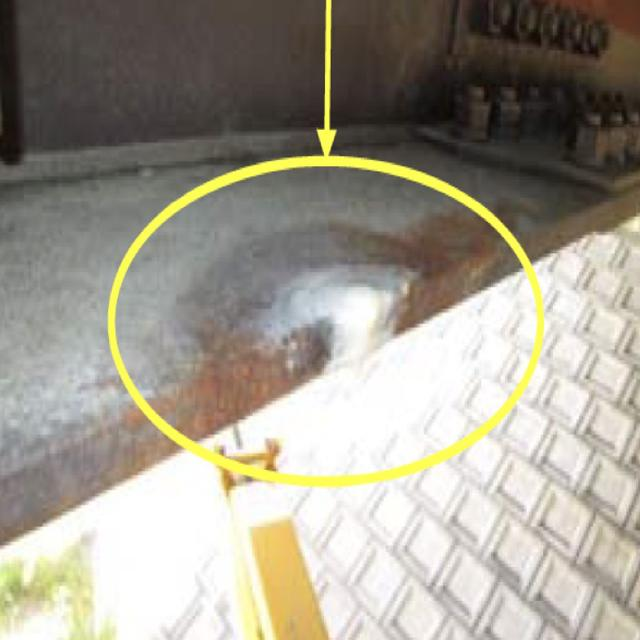freelime: (270, 224, 417, 383)
